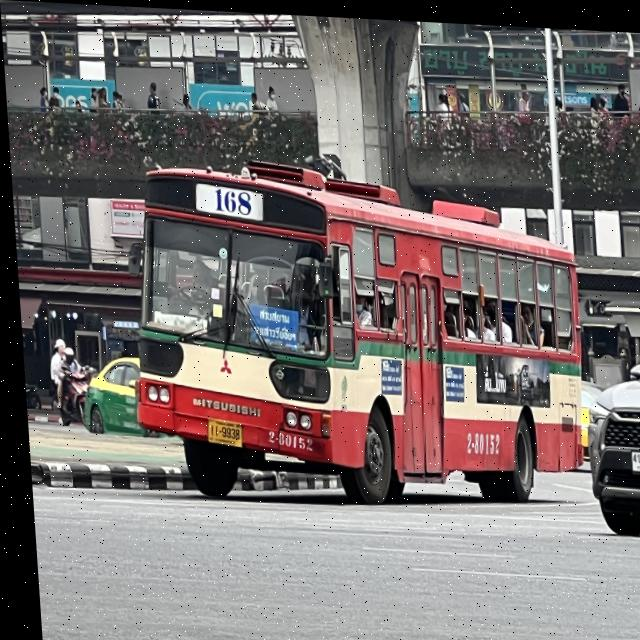BMTA-bus: (127, 161, 578, 502)
Bus Line Number: (200, 184, 258, 218)
Bus Side Number: (455, 418, 501, 454), (255, 427, 311, 452)
Destination Sign: (246, 302, 295, 345)
